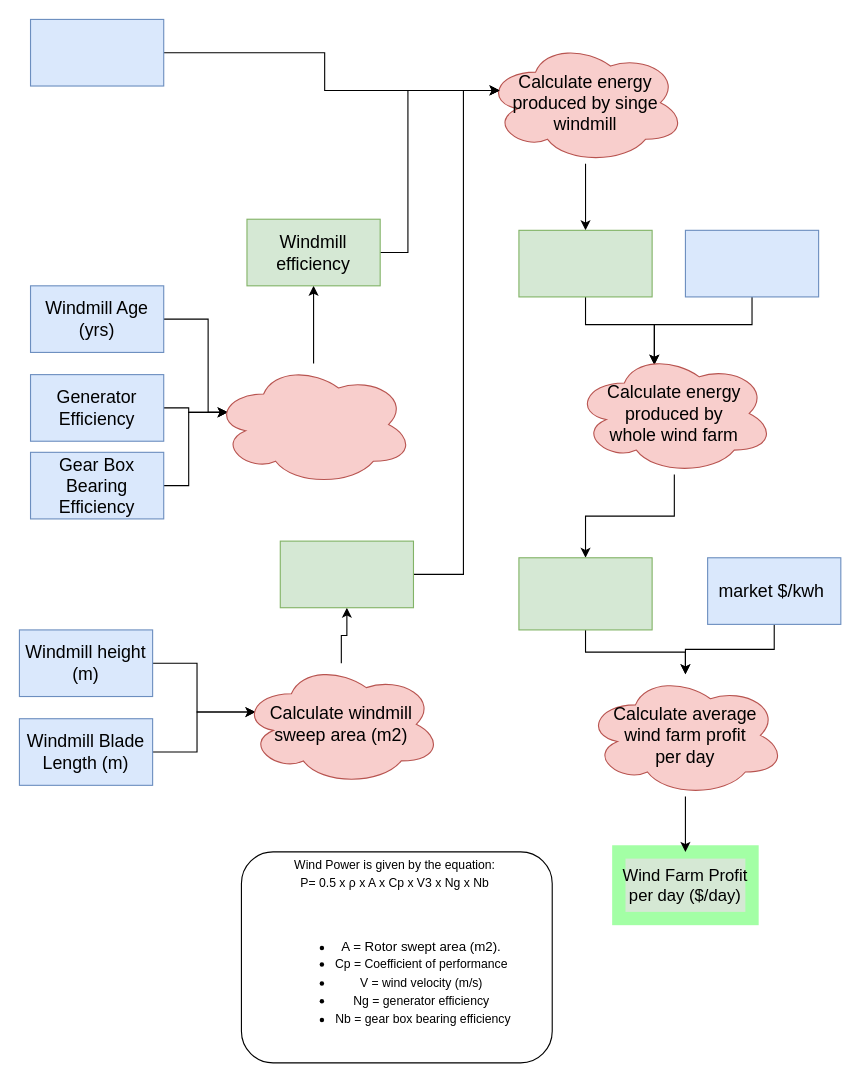
Some shapes in this 860 by 1082 pixel diagram are drawn without their labels. The shapes that lost their labels are listed below. From the top down, each one's centre as x and y in pixels, then its label:
point (96, 52): Avg Daily Wind Speed (m/s)
point (585, 263): Energy output of single windmill (Kwh/day)
point (751, 263): Number of Windmills (n)
point (313, 424): Calculate Windmill efficiency
point (346, 574): sweep area (m2)
point (585, 593): Total daily Energy Produced (Kwh/day)
